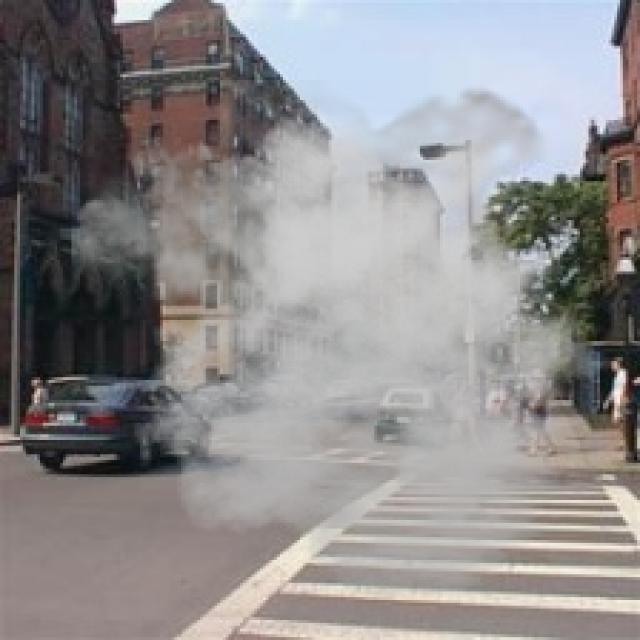Smoke: (72, 80, 638, 603)
